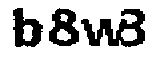3: (126, 3, 152, 51)
8: (48, 6, 80, 50)
b: (9, 5, 45, 51)
w: (79, 16, 125, 51)
